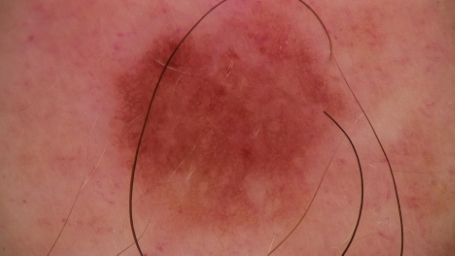nevus: (122, 31, 335, 173)
